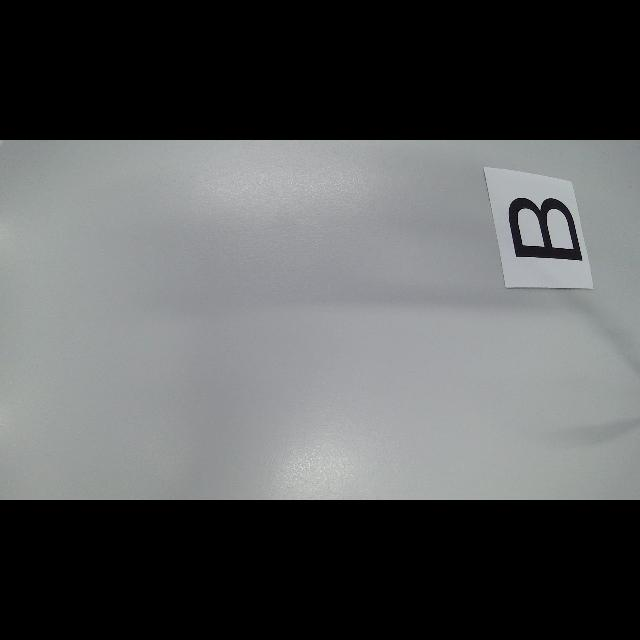FAKE: (508, 198, 584, 260)
